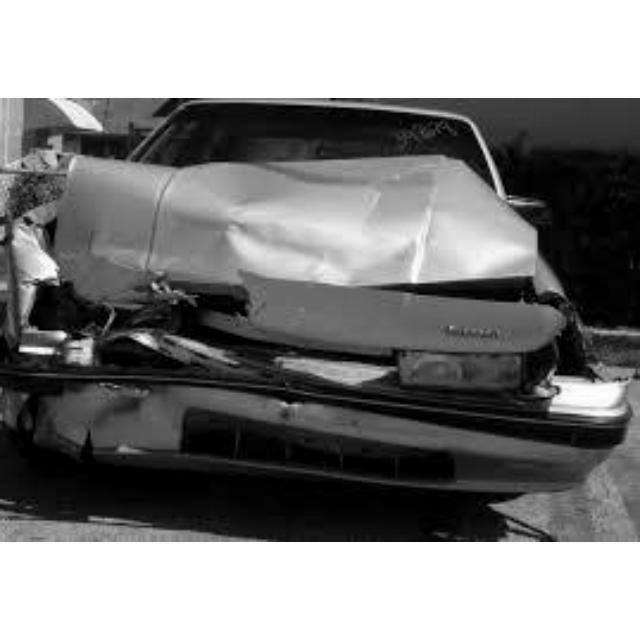bonnet-dent: (70, 146, 531, 288)
front-bumper-dent: (98, 322, 495, 474)
